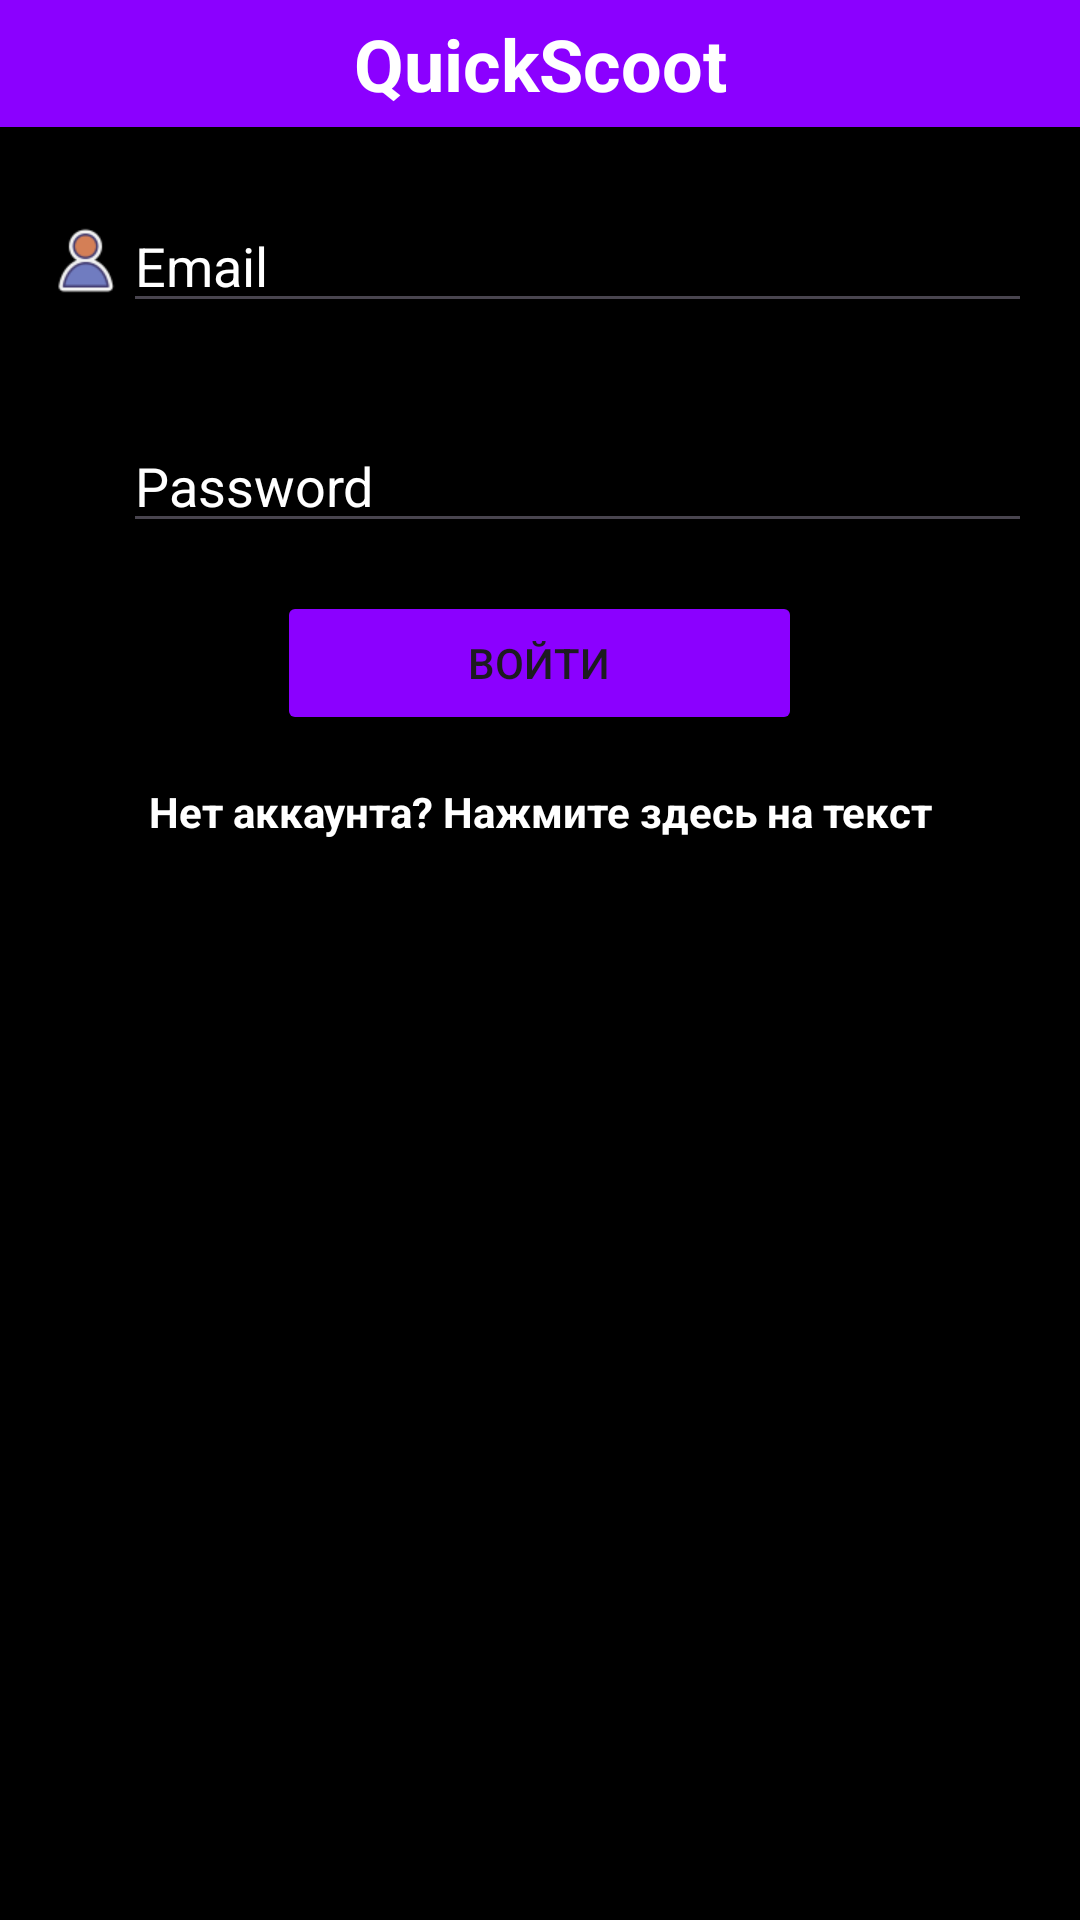

Icon bounding boxes for this 1080 x 1920 phone screenshot, format [x1=x1, y1=y1, x2=x2, y2=y2]:
userpng: [x1=58, y1=229, x2=114, y2=292]
